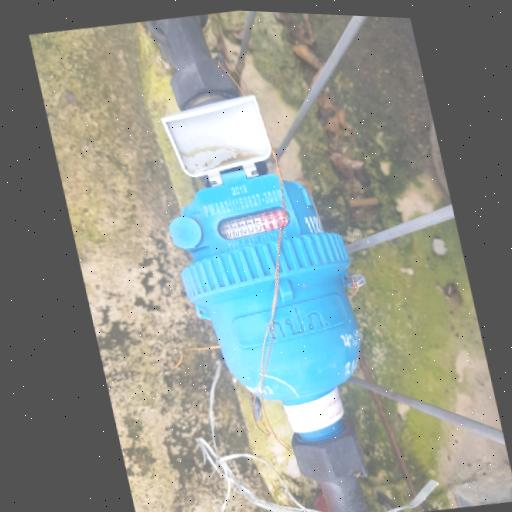0: (235, 219, 249, 237), (229, 221, 242, 239), (222, 222, 233, 240)
3: (243, 217, 257, 235)
4: (260, 213, 273, 231)
5: (251, 216, 264, 233)
6: (267, 212, 280, 229)
border_water_meter_number: (209, 196, 297, 248)
